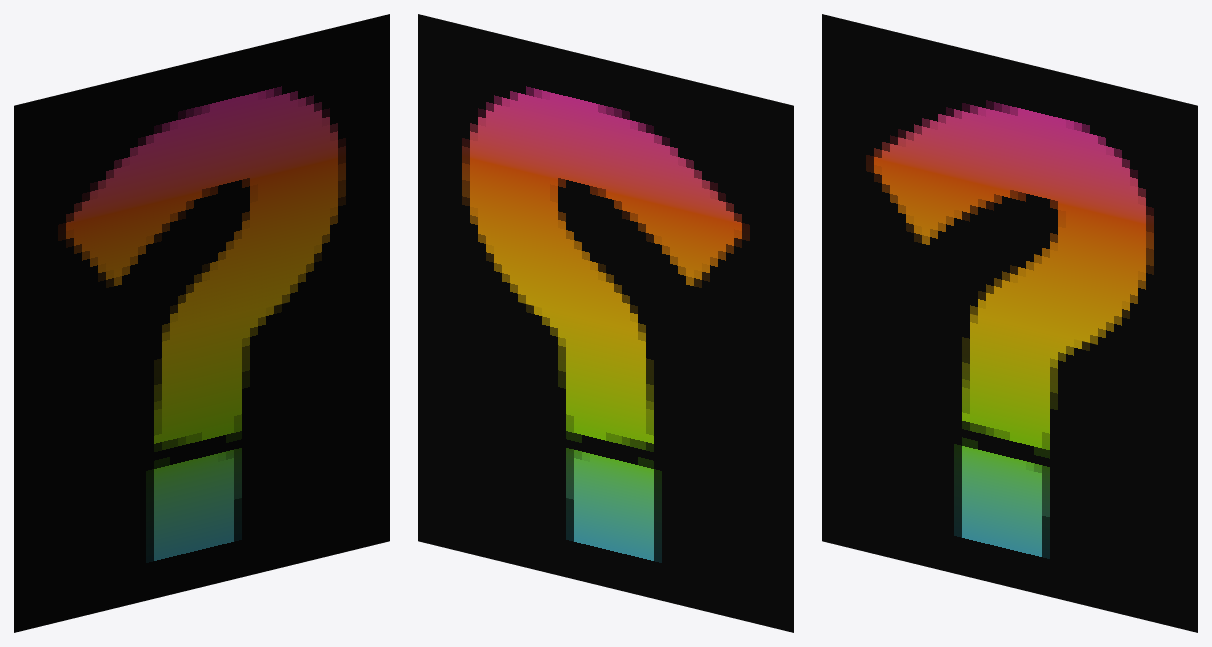
3 renders of one model, left to right at view 1: azimuth 30°, elevation 25°; view 2: azimuth 150°, elevation 25°; view 3: azimuth 330°, elevation 25°, orthographic.
Visible parts, largest first — view 1: Joint_0_Object_0; view 2: Joint_0_Object_0; view 3: Joint_0_Object_0.
Boxes of the visible parts, x1,y1,x2,y2 form: Joint_0_Object_0: (14, 14, 389, 632); Joint_0_Object_0: (418, 14, 793, 632); Joint_0_Object_0: (822, 14, 1197, 632).
Size of the model in its own units: 118 by 158 by 0.
1 material, 1 textured.
